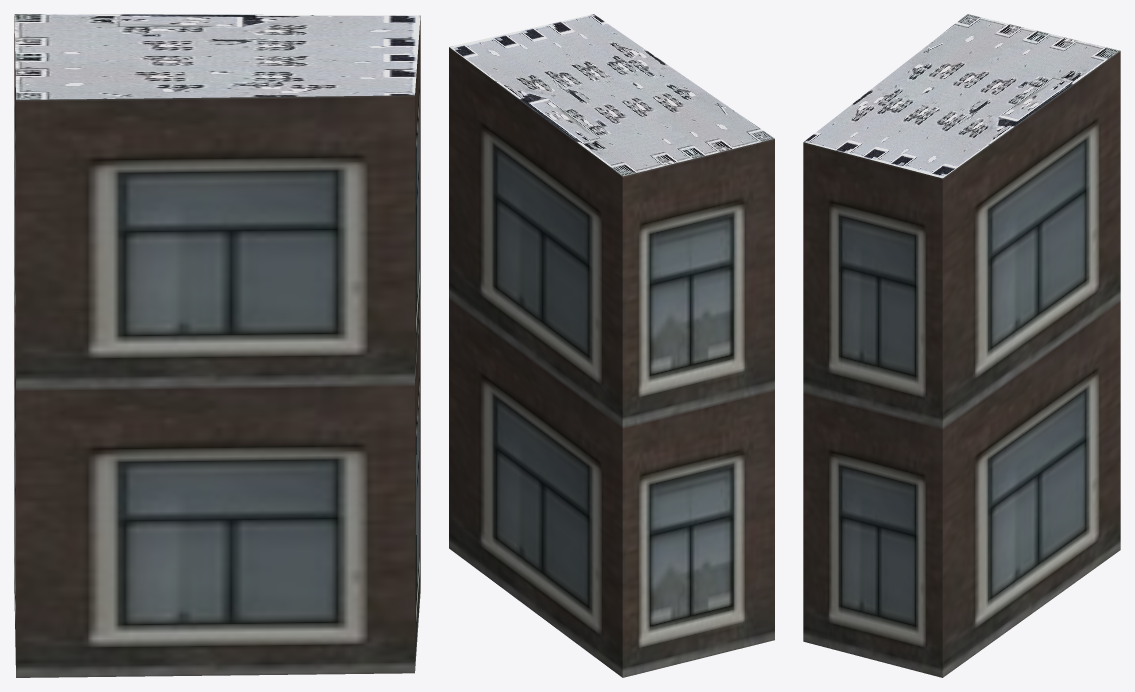
File: ResTex__4415.fbx
3 renders of one model, left to right at view 1: azimuth 30°, elevation 25°; view 2: azimuth 150°, elevation 25°; view 3: azimuth 270°, elevation 25°, orthographic. The views are drawn at different scales.
Visible parts, largest first — view 1: CityEngineMaterial_16_m, CityEngineMaterial_15_m; view 2: CityEngineMaterial_16_m, CityEngineMaterial_15_m; view 3: CityEngineMaterial_16_m, CityEngineMaterial_15_m.
Part boxes in pixels (x1=…): CityEngineMaterial_16_m: x1=14, y1=16, x2=420, y2=677; CityEngineMaterial_15_m: x1=14, y1=14, x2=420, y2=99; CityEngineMaterial_16_m: x1=449, y1=47, x2=774, y2=677; CityEngineMaterial_15_m: x1=449, y1=14, x2=774, y2=176; CityEngineMaterial_16_m: x1=803, y1=51, x2=1120, y2=677; CityEngineMaterial_15_m: x1=803, y1=14, x2=1119, y2=178.
Size of the model in its own units: 4.24 by 6 by 3.45.
Materials: 2 (2 with a texture image).
